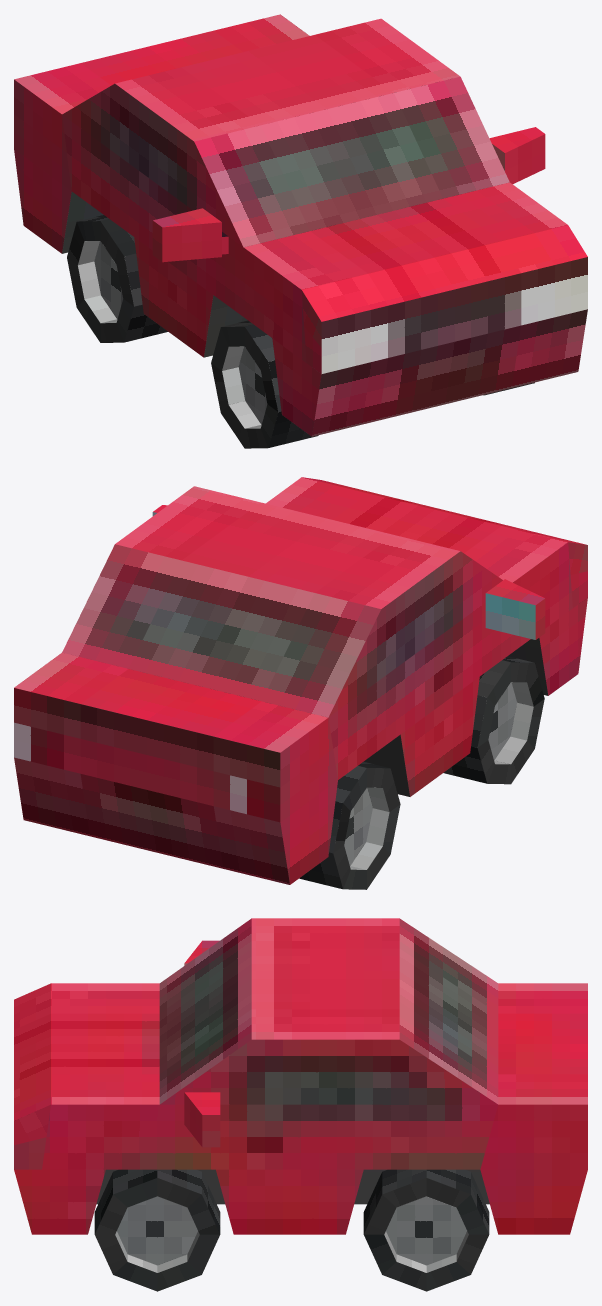
3 renders of one model, top to bottom at view 1: azimuth 30°, elevation 25°; view 2: azimuth 150°, elevation 25°; view 3: azimuth 270°, elevation 25°, orthographic. The views are drawn at different scales.
Parts seen in each view (by area): view 1: cube, cylinder, mirror_left; view 2: cube, cylinder, mirror_left; view 3: cube, cylinder, mirror_left.
Part boxes in pixels (<box>): cube: <box>14,14,587,436</box>; cylinder: <box>67,215,534,448</box>; mirror_left: <box>152,127,545,262</box>; cube: <box>14,477,587,884</box>; cylinder: <box>299,656,544,889</box>; mirror_left: <box>152,505,545,639</box>; cube: <box>14,918,587,1234</box>; cylinder: <box>94,1169,489,1291</box>; mirror_left: <box>184,940,220,1147</box>.
Size of the model in its own units: 1.44 by 0.9688 by 2.
Materials: 3 (3 with a texture image).
